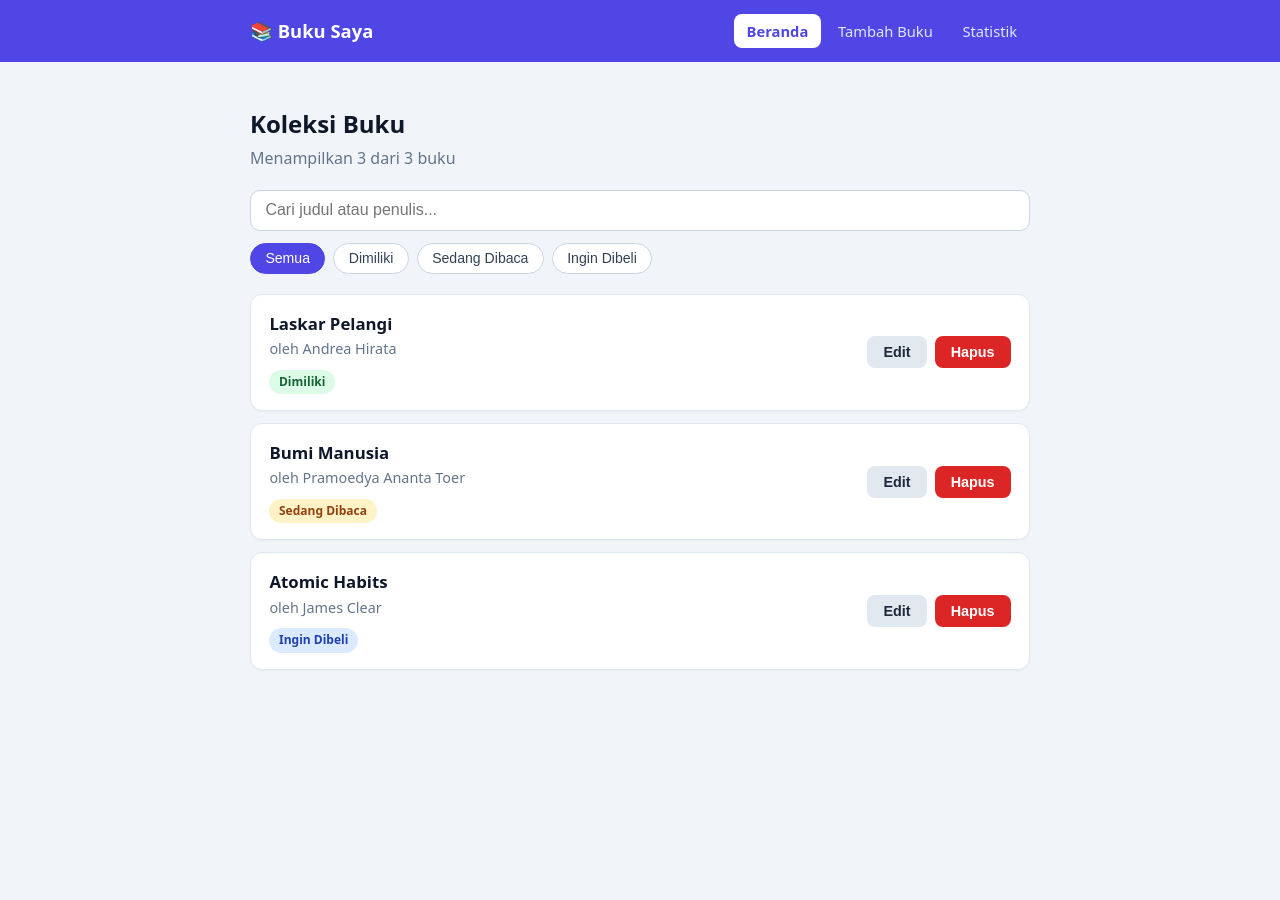
Scenario: Integrasi aplikasi › memfilter buku berdasarkan status
Click the button "Sedang Dibaca".
click(480, 258)  # box [417,243,544,274]
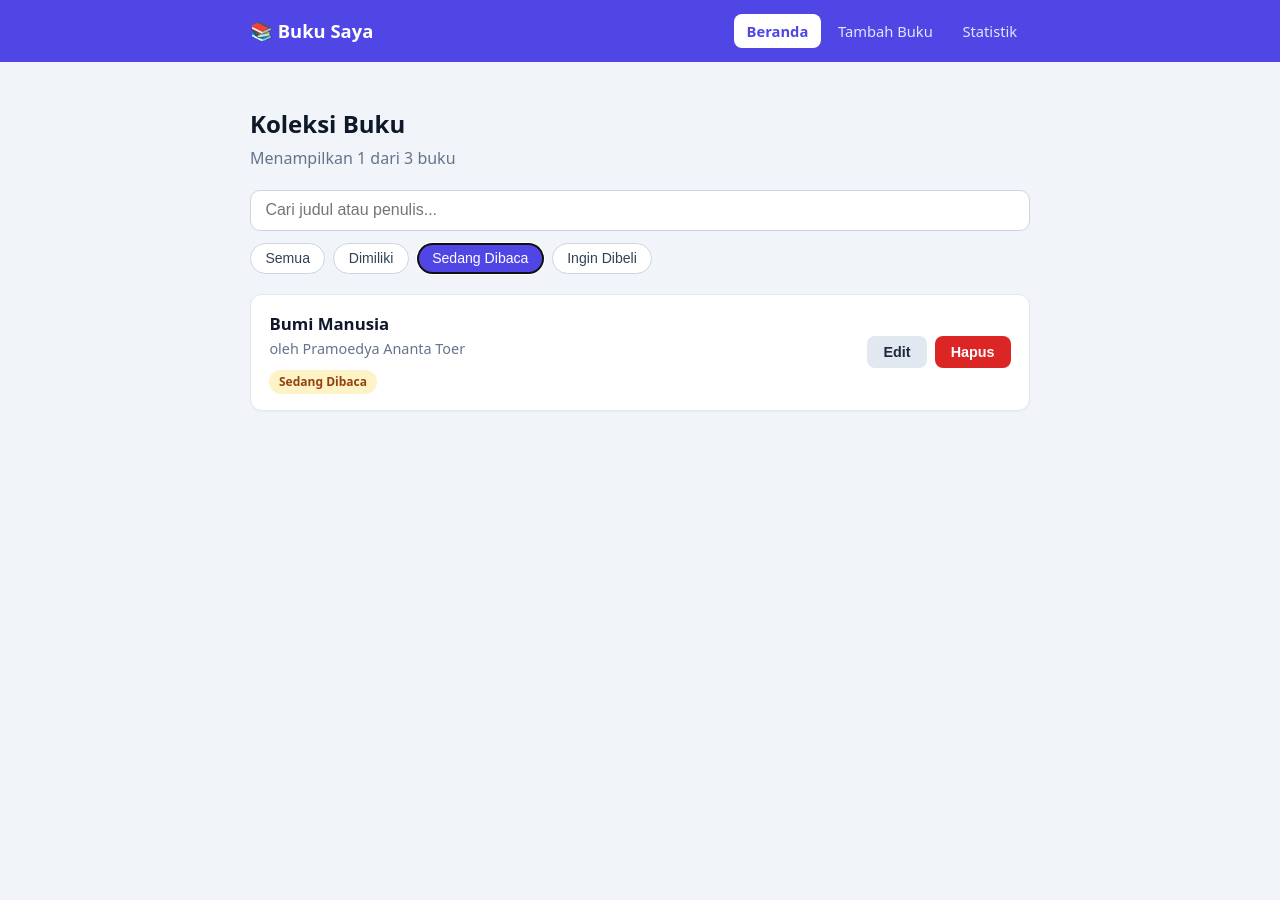
Expected: the heading "Bumi Manusia" is shown, [269,312,389,334]
Now the heading "Laskar Pelangi" is gone
